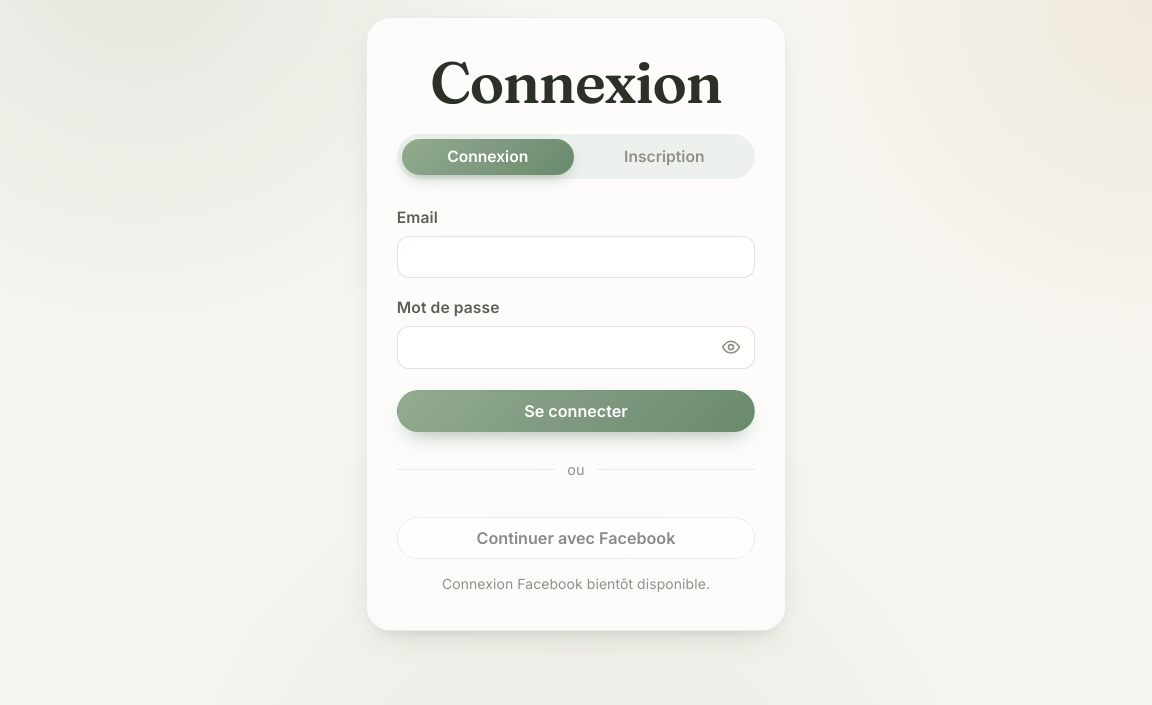
Scenario: AuthPage › reveals the display name field when switching to registration
Expected: the field labelled "Nom affiché (optionnel)" is not shown
Click the tab "Inscription" at (664, 157), box [578, 139, 750, 175]
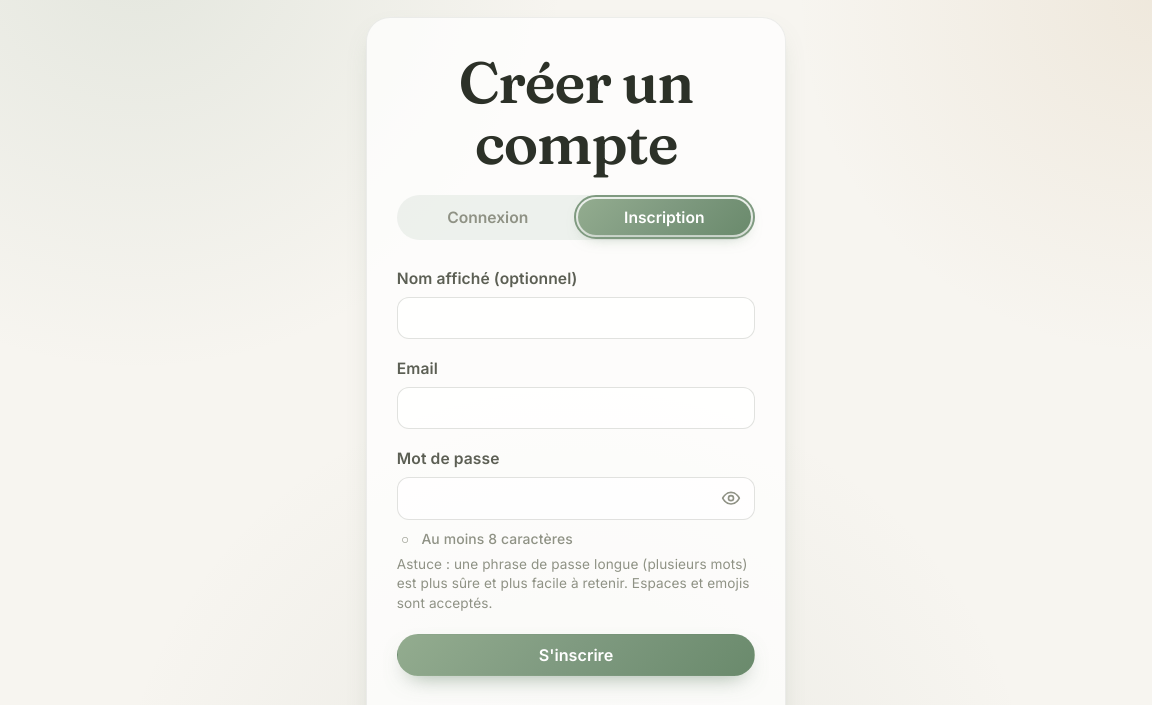
Now the field labelled "Nom affiché (optionnel)" is shown, box [397, 296, 755, 339]
